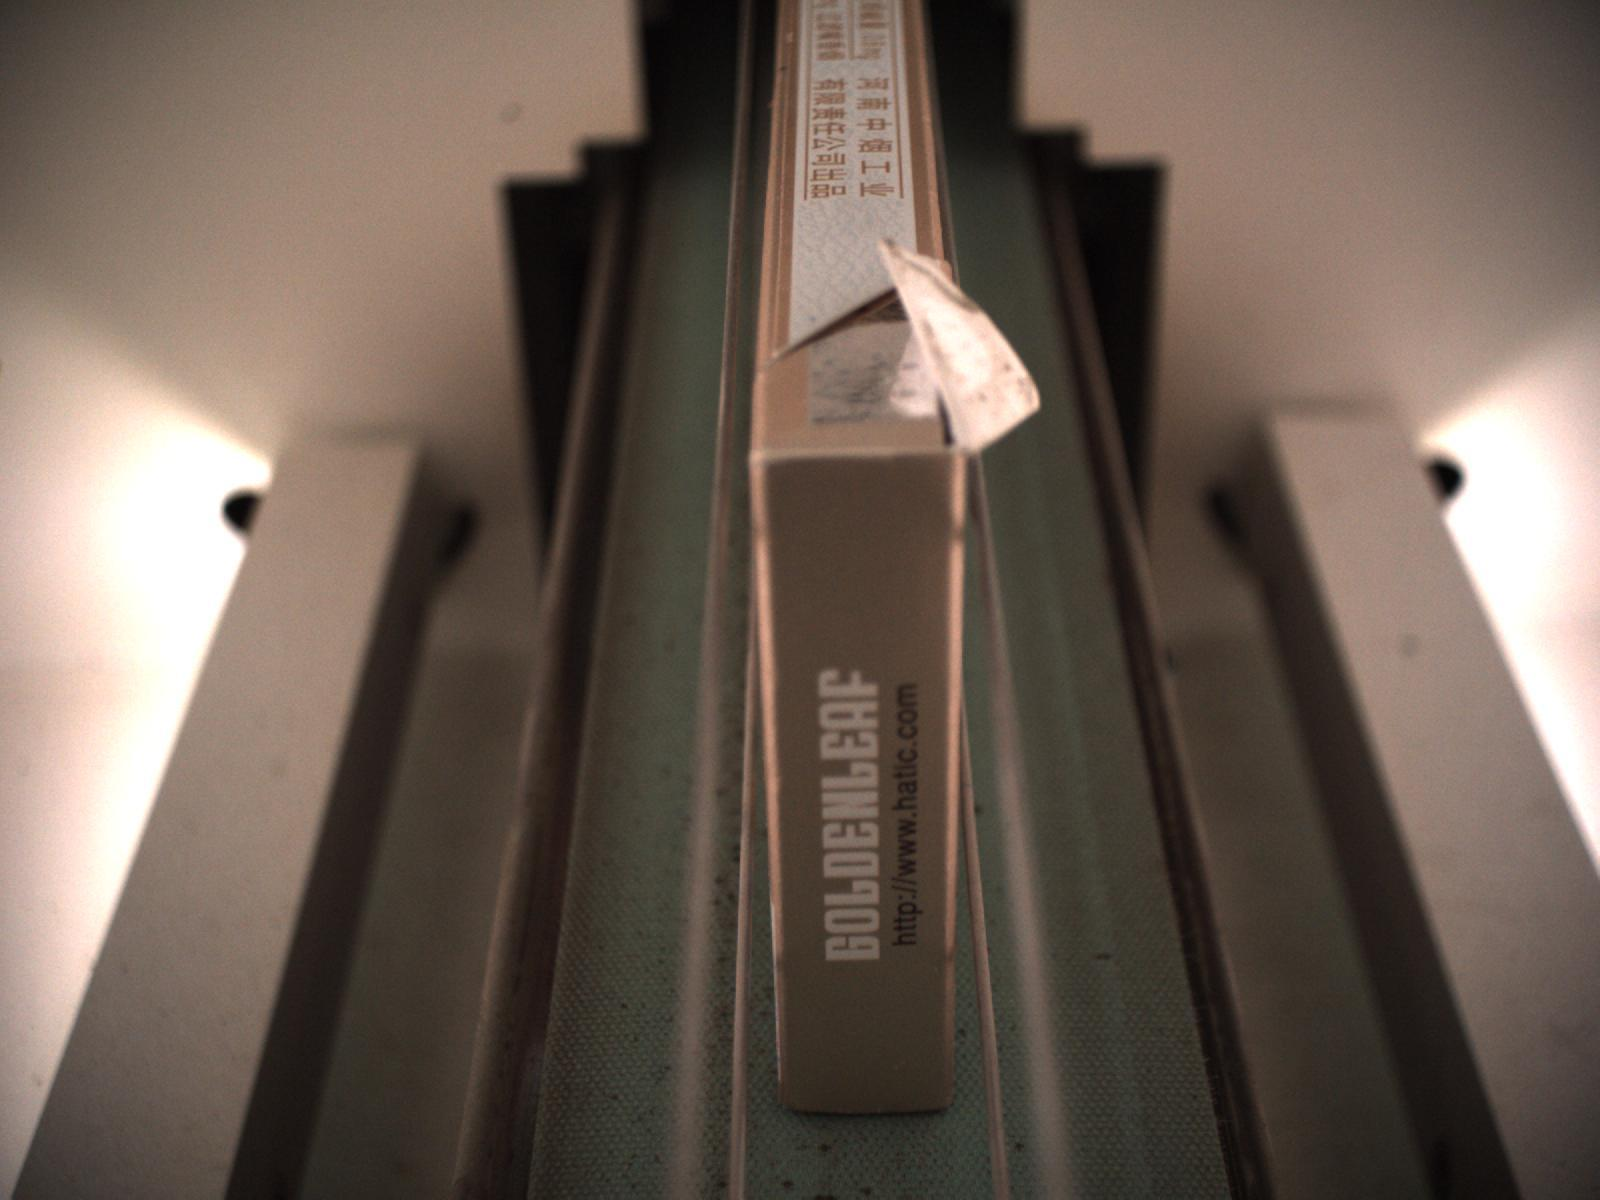headDamage_upper_2: (757, 244, 1047, 454)
